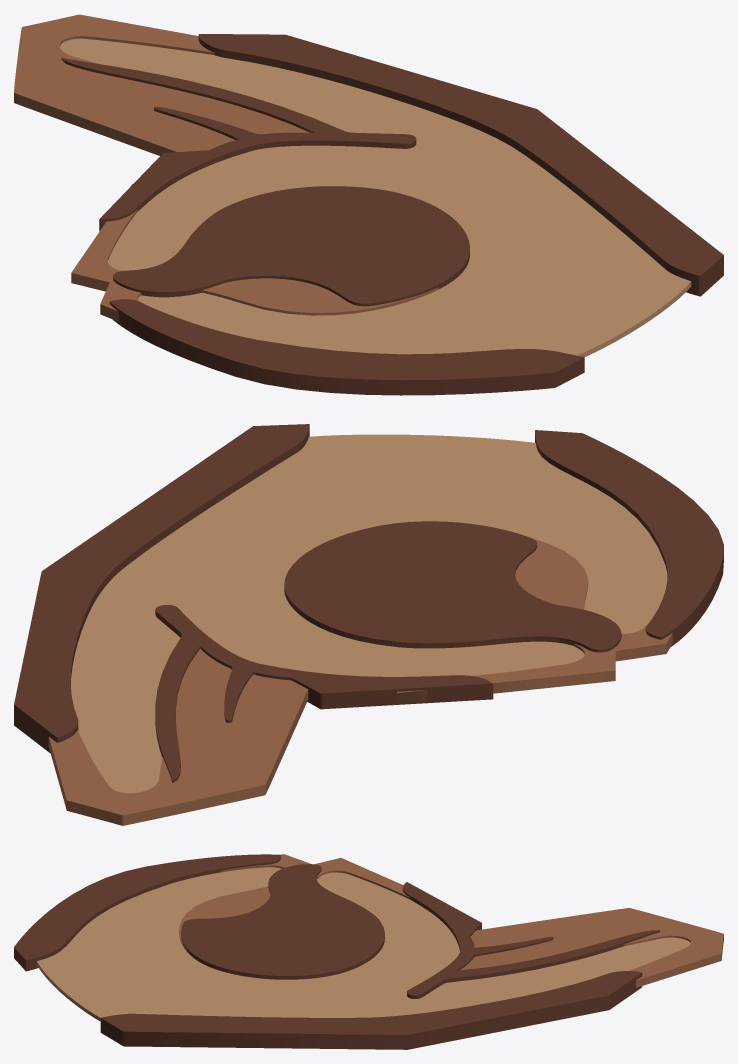
The model's file is emoji_u1f44c_1f3fd.glb.
3 renders of one model, top to bottom at view 1: azimuth 30°, elevation 25°; view 2: azimuth 150°, elevation 25°; view 3: azimuth 270°, elevation 25°, orthographic. The views are drawn at different scales.
Visible parts, largest first — view 1: emoji_u1f44c_1f3fd; view 2: emoji_u1f44c_1f3fd; view 3: emoji_u1f44c_1f3fd.
Boxes of the visible parts, bbox=[...] form: emoji_u1f44c_1f3fd: bbox=[14, 14, 723, 395]; emoji_u1f44c_1f3fd: bbox=[14, 424, 723, 825]; emoji_u1f44c_1f3fd: bbox=[14, 854, 723, 1049].
Bounding box in the file's own units: 0.0214 × 0.0008 × 0.0348.
